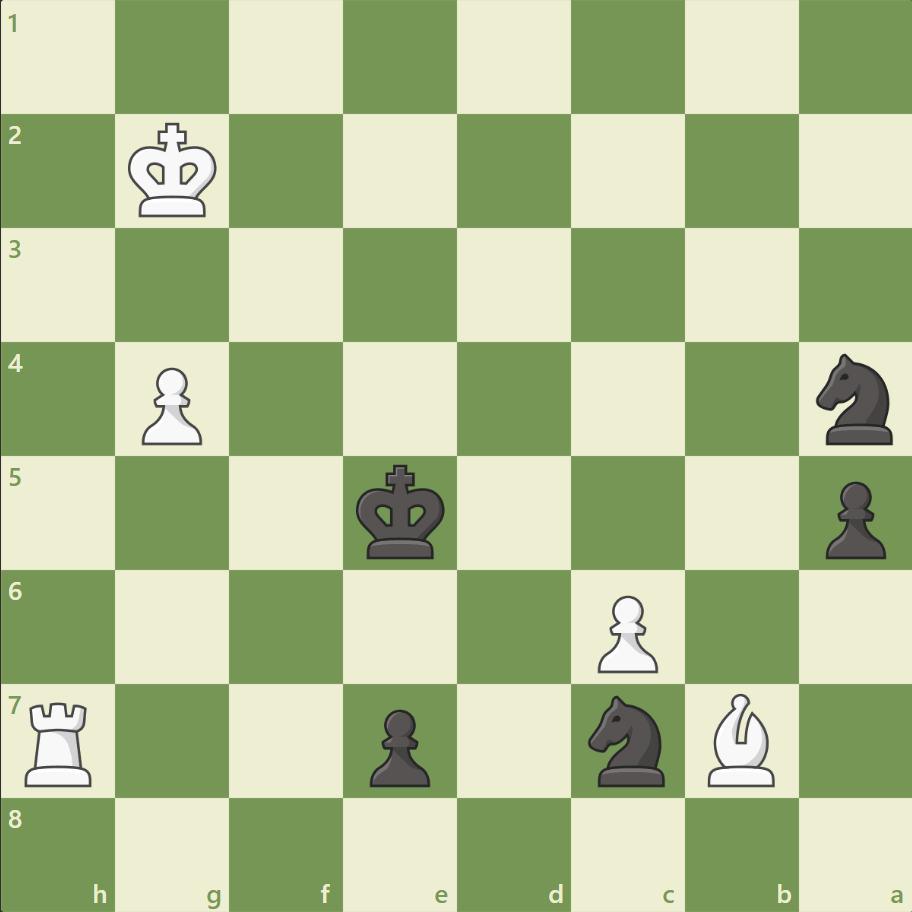B: (698, 687, 782, 790)
K: (124, 117, 224, 225)
P: (133, 359, 208, 450), (588, 586, 662, 677)
R: (19, 693, 102, 790)
k: (351, 458, 451, 566)
n: (579, 688, 676, 791), (806, 348, 903, 450)
p: (361, 700, 435, 791), (815, 473, 889, 564)
